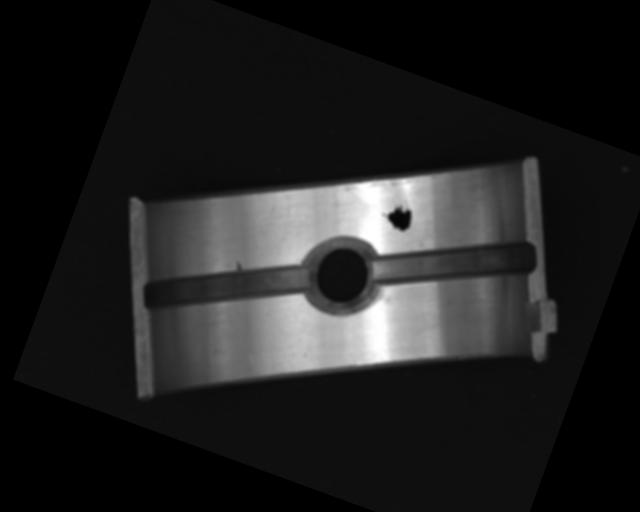blot: (377, 192, 419, 234)
bruise: (232, 259, 246, 273)
gap: (139, 216, 313, 355), (369, 194, 540, 328)
hole: (296, 229, 384, 321)
